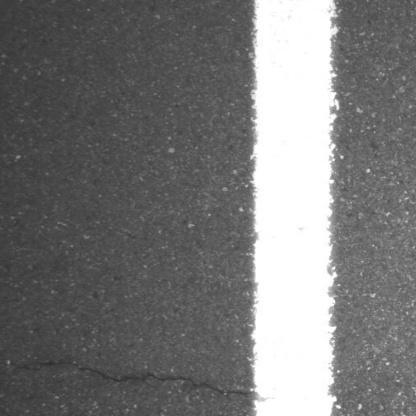Cracks: (0, 358, 259, 402)
